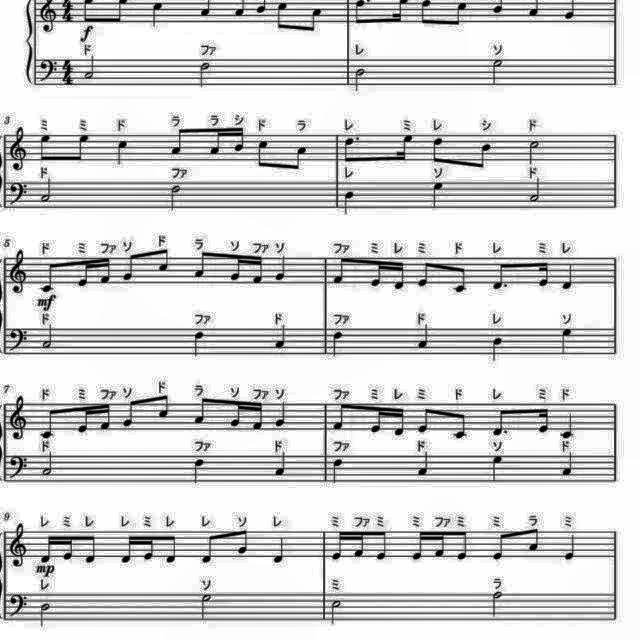Bass-clef: (6, 452, 32, 482), (6, 326, 30, 356), (7, 178, 30, 208), (37, 56, 59, 84), (7, 590, 29, 618)
Eighth-note: (254, 136, 276, 172), (37, 406, 59, 442), (71, 131, 93, 165), (474, 139, 496, 173), (200, 530, 220, 566), (38, 260, 58, 296), (490, 404, 510, 440), (287, 144, 309, 176), (305, 4, 327, 36), (490, 531, 510, 565), (163, 530, 181, 566), (83, 530, 101, 566), (416, 259, 436, 291), (190, 394, 210, 426), (448, 410, 468, 442), (342, 132, 362, 164), (490, 262, 510, 294), (273, 1, 293, 32), (454, 528, 472, 562), (449, 264, 468, 296), (192, 252, 212, 282), (170, 128, 190, 158), (120, 398, 138, 430), (416, 405, 434, 437), (120, 253, 138, 285), (428, 134, 446, 166), (333, 402, 351, 434), (36, 131, 54, 163), (333, 256, 351, 288), (450, 0, 470, 28), (152, 392, 170, 423), (375, 528, 391, 562), (234, 526, 252, 556), (527, 528, 545, 558), (154, 246, 173, 274)
Half-note: (488, 588, 506, 620), (489, 56, 507, 88), (167, 183, 186, 213), (197, 60, 216, 90), (39, 449, 57, 479), (37, 174, 55, 204), (198, 591, 216, 621), (329, 597, 346, 627), (329, 458, 346, 488), (525, 138, 543, 166), (529, 178, 547, 206), (329, 329, 346, 358), (352, 65, 368, 95), (84, 54, 100, 82), (40, 324, 56, 352), (36, 600, 52, 628)
Quarter-note: (428, 181, 448, 211), (558, 409, 578, 439), (112, 139, 132, 169), (188, 457, 208, 487), (561, 532, 579, 564), (558, 324, 576, 356), (146, 0, 166, 28), (271, 536, 289, 566), (559, 262, 577, 292), (273, 448, 291, 478), (272, 399, 290, 429), (488, 453, 506, 483), (189, 328, 207, 358), (415, 323, 433, 352), (273, 323, 291, 352), (415, 450, 433, 478), (559, 449, 577, 477), (274, 255, 290, 285), (489, 336, 505, 364), (342, 190, 358, 218)
Sixteenth-note: (392, 132, 416, 164), (226, 401, 248, 432), (117, 530, 135, 566), (391, 258, 409, 294), (330, 530, 348, 566), (207, 126, 226, 158), (226, 255, 246, 285), (392, 404, 408, 440), (410, 532, 428, 564), (73, 404, 91, 436), (74, 258, 92, 290), (368, 405, 386, 437), (37, 532, 55, 564), (250, 400, 266, 434), (534, 260, 552, 290), (366, 261, 384, 291), (250, 254, 266, 286), (534, 404, 550, 436), (98, 255, 114, 287), (96, 402, 112, 434), (351, 528, 367, 560), (140, 534, 156, 564), (60, 534, 76, 564), (232, 126, 248, 154), (433, 532, 447, 562)
Treble-clef: (6, 518, 32, 570), (6, 394, 32, 444), (6, 123, 30, 173), (7, 249, 30, 299), (36, 1, 59, 36)
